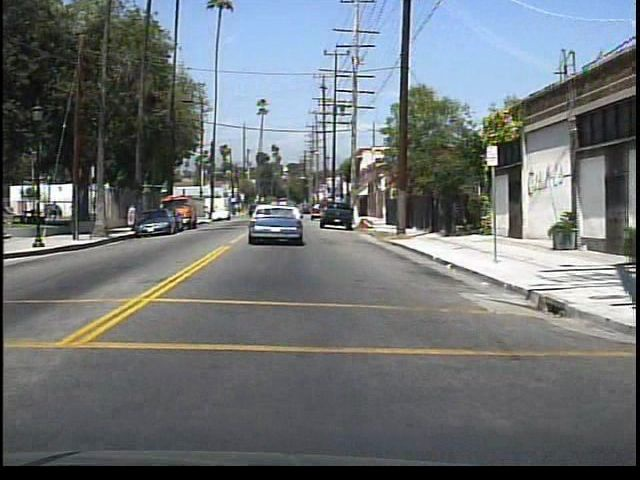person: (89, 196, 103, 223), (48, 199, 62, 222), (127, 201, 138, 230)
